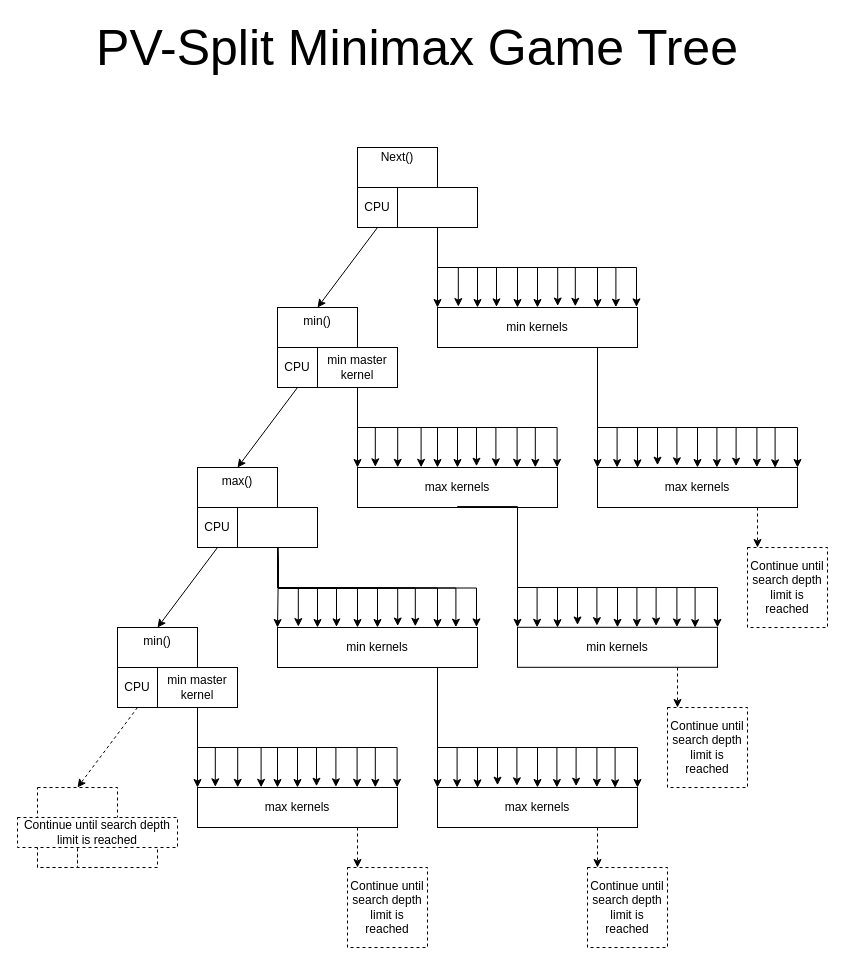
This 845x965 diagram has some shape labels left out. The shapes that lost their labels are listed below. From the top down, each one's centre as x and y in pixels, then its label:
At point 437,207: "next kernel".
At point 277,527: "max master kernel".
